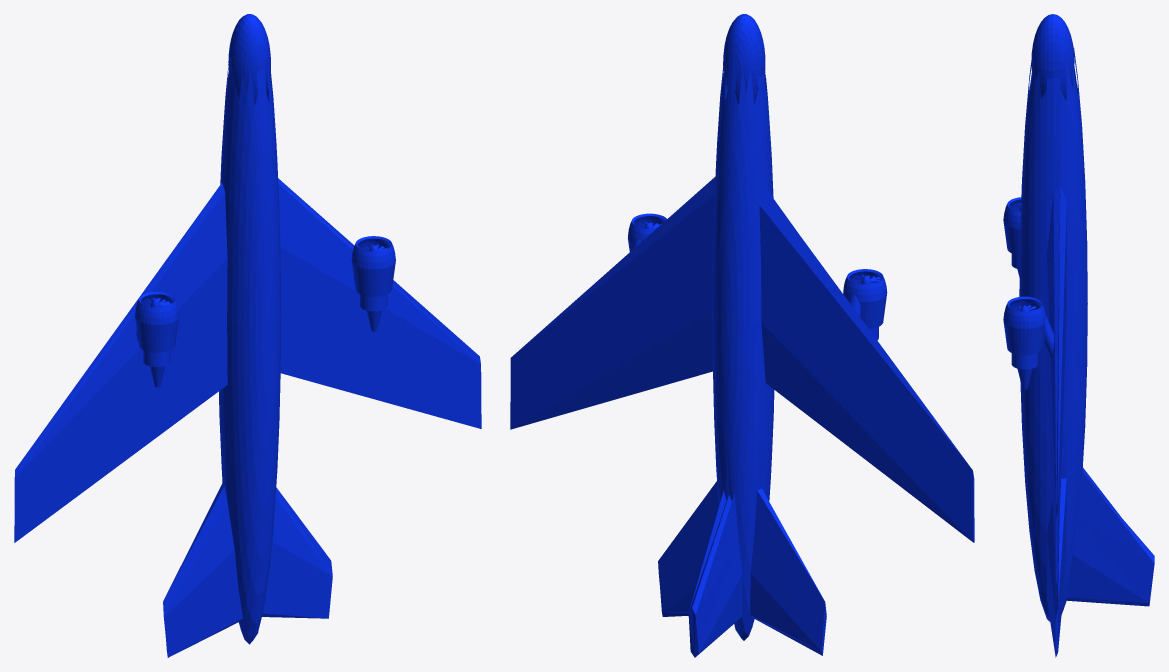
The model's file is avion.dae.
3 views of the same model, side by side, from view 1: azimuth 30°, elevation 25°; view 2: azimuth 150°, elevation 25°; view 3: azimuth 270°, elevation 25° (orthographic). The views are drawn at different scales.
Visible parts, largest first — view 1: node_airplane2_1; view 2: node_airplane2_1; view 3: node_airplane2_1.
Part boxes in pixels (x1,y1,x2,y2): node_airplane2_1: (14,14,481,657); node_airplane2_1: (510,14,974,657); node_airplane2_1: (1003,14,1154,657).
Bounding box in the file's own units: 0.0118 × 0.0034 × 0.0152.
